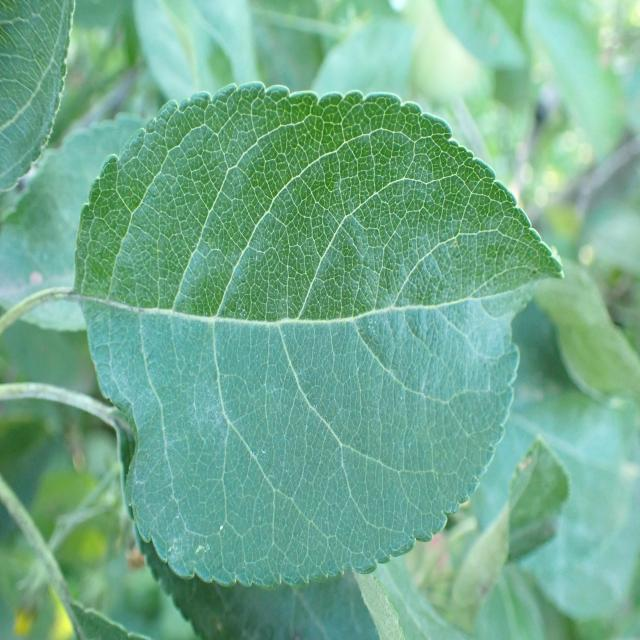Powdery_mildew: (65, 91, 535, 566)
